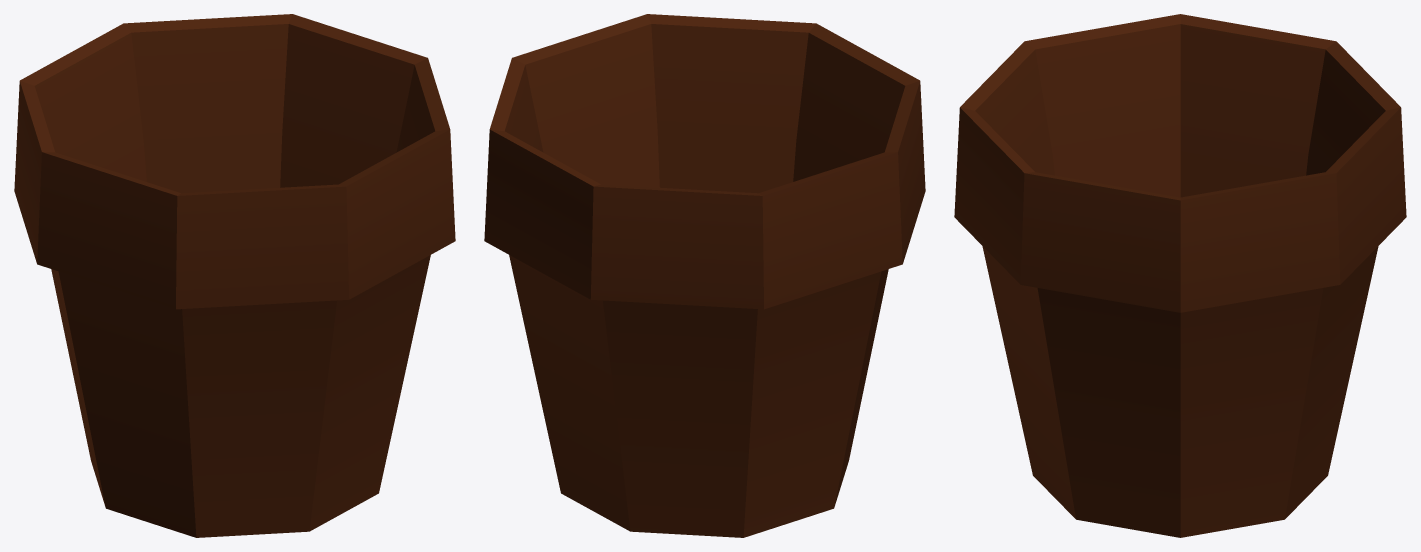
File: Flower_pot (1).fbx
3 views of the same model, side by side, from view 1: azimuth 30°, elevation 25°; view 2: azimuth 150°, elevation 25°; view 3: azimuth 270°, elevation 25° (orthographic).
Visible parts, largest first — view 1: Flower_Pot; view 2: Flower_Pot; view 3: Flower_Pot.
Part boxes in pixels (left/top/right/bottom): Flower_Pot: left=14, top=14, right=455, bottom=537; Flower_Pot: left=484, top=14, right=925, bottom=537; Flower_Pot: left=954, top=14, right=1406, bottom=537.
Size of the model in its own units: 1.83 by 1.67 by 1.83.
